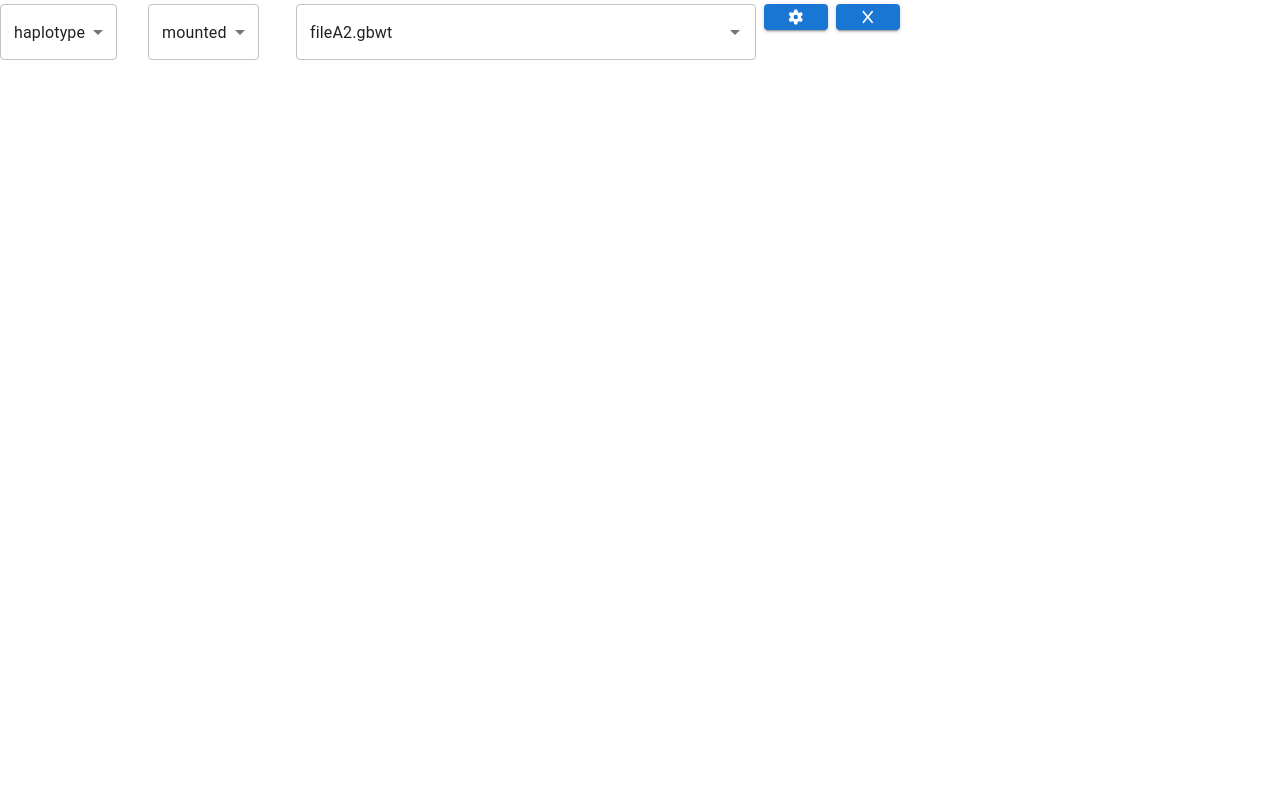
Scenario: TrackListItem › shows a track without stored colors its type's default palette
Click the button named "Color settings for fileA2.gbwt" at (796, 17), box [764,4,828,30]
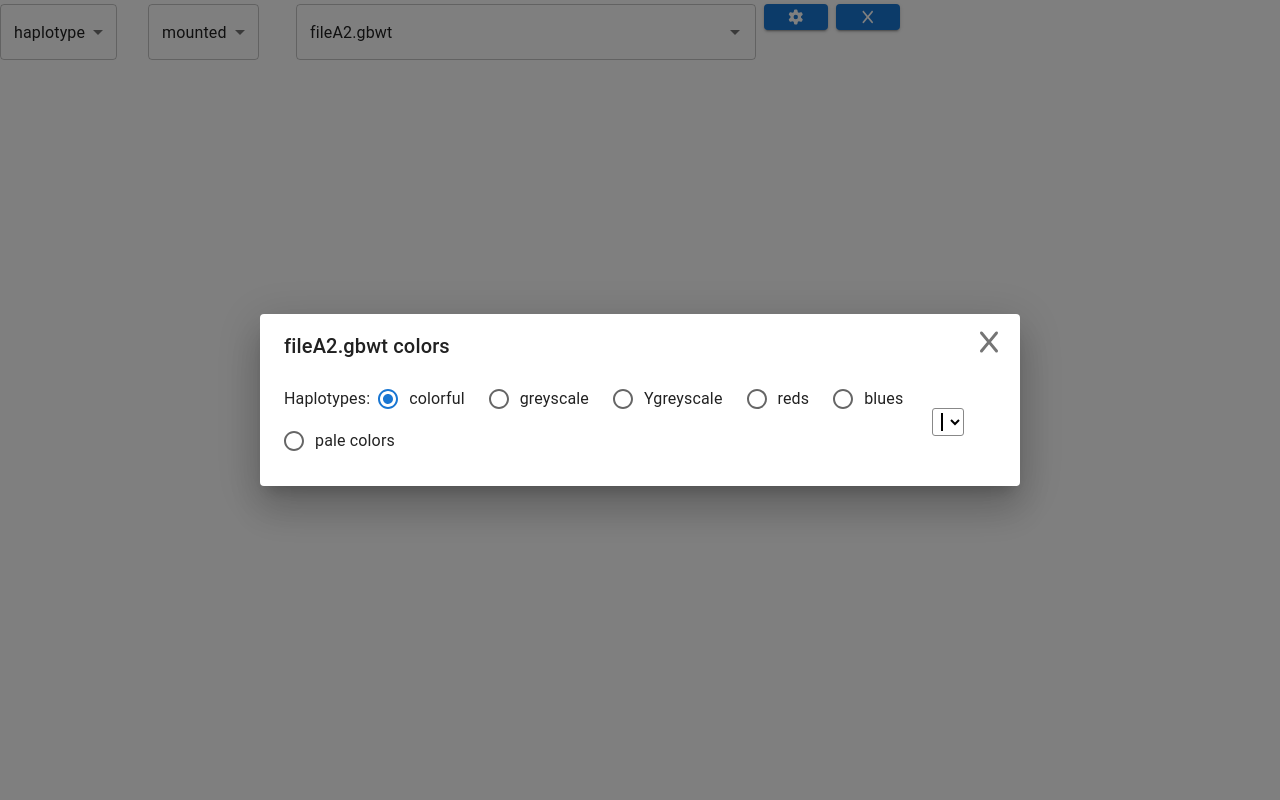
Now the radio button labelled "colorful" is checked, box [376,387,465,411]
Now the radio button labelled "blues" is not checked, box [831,387,903,411]
